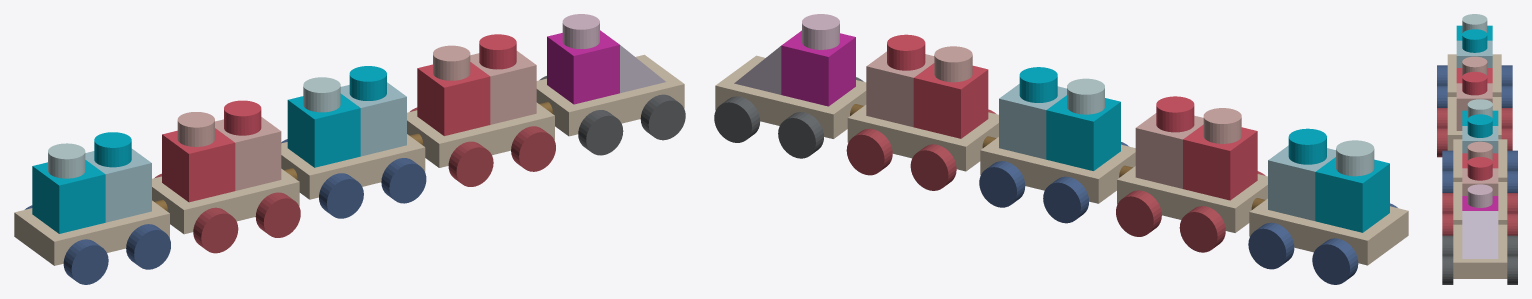
Rendered from Train.glb.
3 views of the same model, side by side, from view 1: azimuth 30°, elevation 25°; view 2: azimuth 150°, elevation 25°; view 3: azimuth 270°, elevation 25° (orthographic). The views are drawn at different scales.
Parts seen in each view (by area): view 1: Mesh_Mesh_head_geo.001_lambert2SG.001; view 2: Mesh_Mesh_head_geo.001_lambert2SG.001; view 3: Mesh_Mesh_head_geo.001_lambert2SG.001.
Boxes of the visible parts, x1,y1,x2,y2 form: Mesh_Mesh_head_geo.001_lambert2SG.001: [14, 14, 685, 284]; Mesh_Mesh_head_geo.001_lambert2SG.001: [714, 14, 1408, 284]; Mesh_Mesh_head_geo.001_lambert2SG.001: [1437, 14, 1517, 284].
Bounding box in the file's own units: 274 × 46 × 45.
